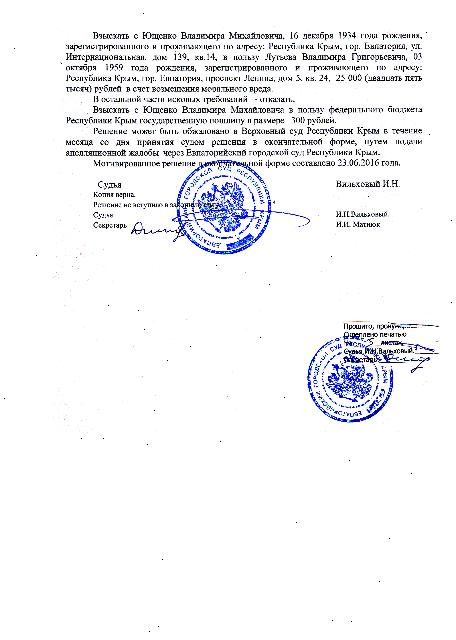stamp: (176, 160, 271, 256), (308, 336, 394, 424)
